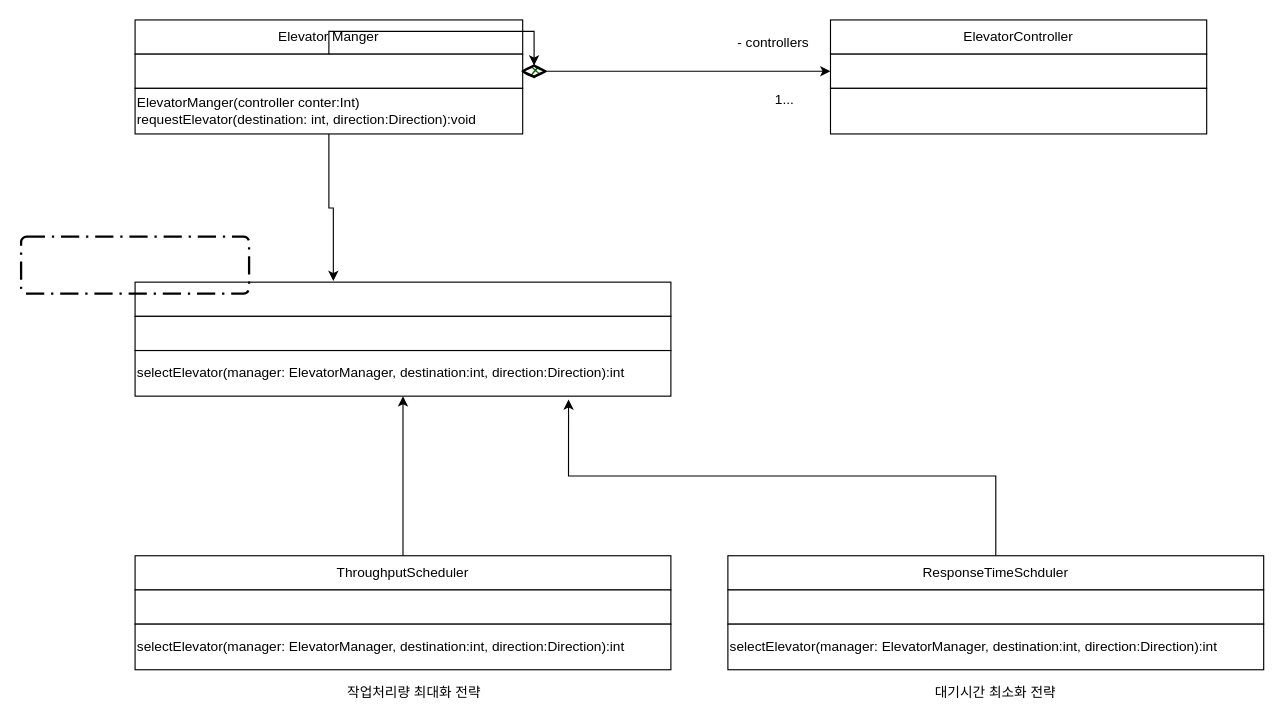
Image size: 1284x724. Some labels were removed from this diagram. The shapes that lost their labels are listed below. From the top down, each one's box as (x1, y1, x2, y2) in pixels, then its label:
(829, 53, 1207, 88): id:int curFloor:int
(829, 87, 1207, 134): ElevatorController(id:Int) gotoFloor(destination: int):void
(19, 235, 250, 294): Strategy
(134, 281, 671, 316): <<interface>> ElevatorScheduler
